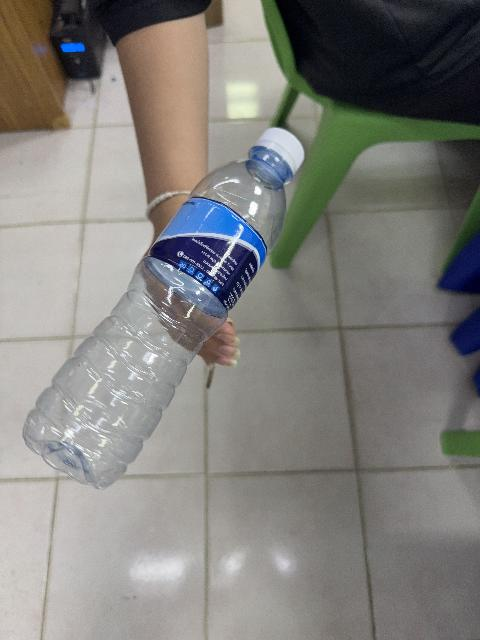bottle: (24, 128, 303, 488)
